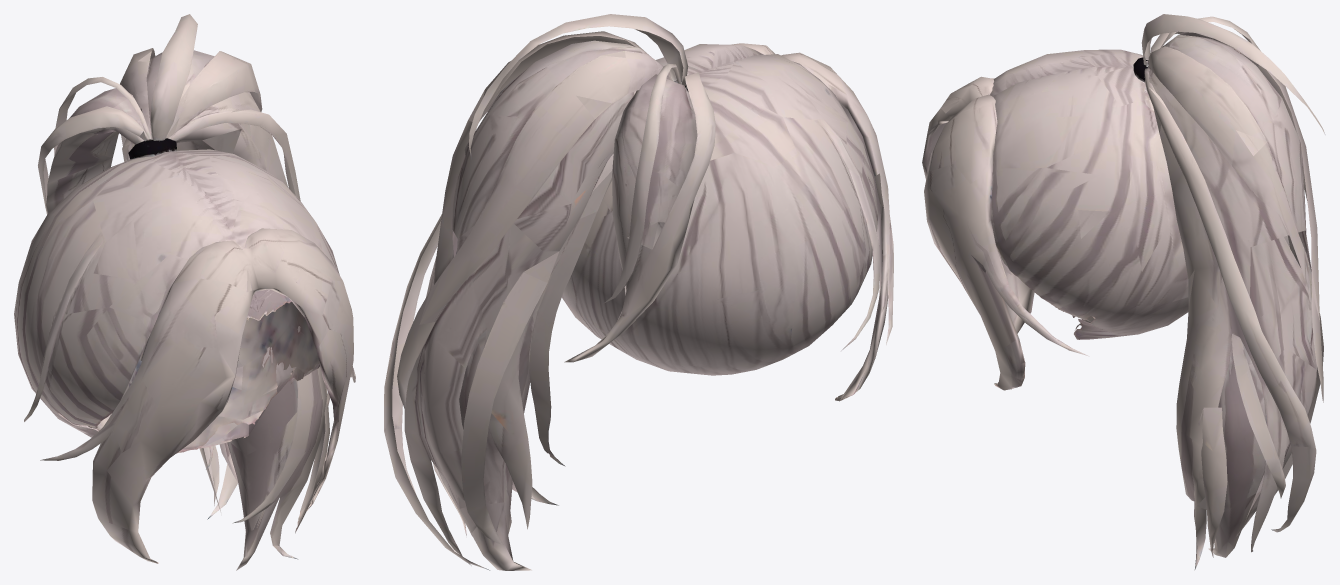
The model's file is ponytail.glb.
The picture shows the model from 3 angles, left to right: view 1: azimuth 30°, elevation 25°; view 2: azimuth 150°, elevation 25°; view 3: azimuth 270°, elevation 25°; orthographic projection. The views are drawn at different scales.
Parts seen in each view (by area): view 1: Mesh_0; view 2: Mesh_0; view 3: Mesh_0.
Part boxes in pixels (x1=…): Mesh_0: x1=14, y1=14, x2=355, y2=570; Mesh_0: x1=384, y1=14, x2=893, y2=570; Mesh_0: x1=922, y1=14, x2=1325, y2=570.
Bounding box in the file's own units: 1.42 × 2 × 1.46.
Materials: 1 (1 with a texture image).
